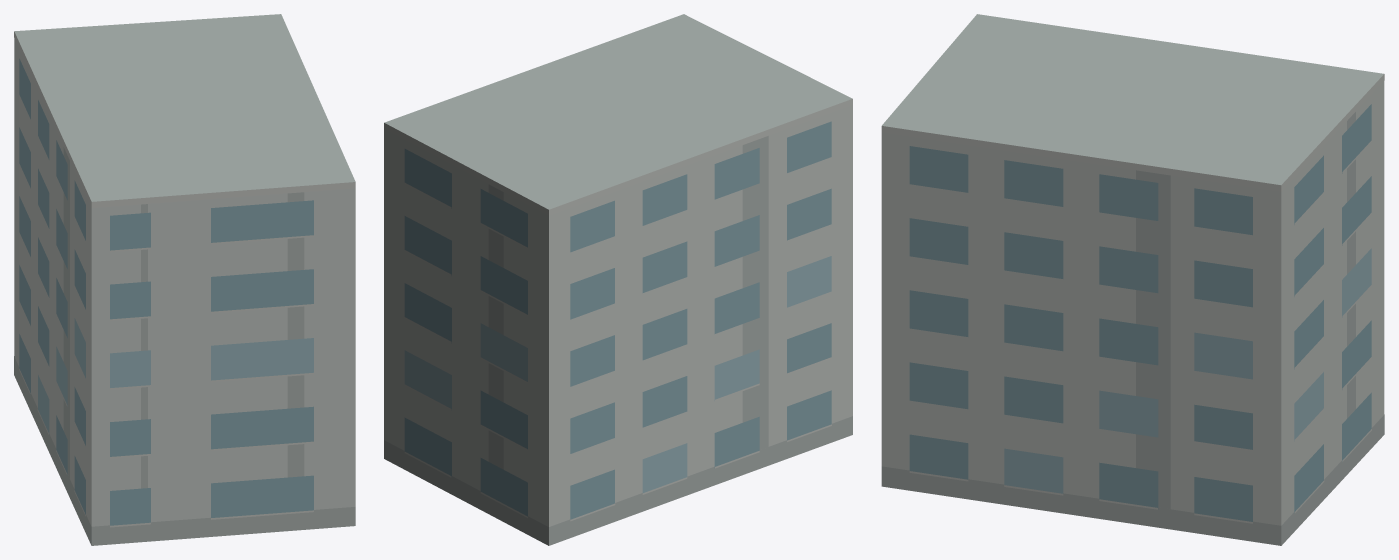
Rendered from survey-upis-32885795.glb.
3 renders of one model, left to right at view 1: azimuth 30°, elevation 25°; view 2: azimuth 150°, elevation 25°; view 3: azimuth 270°, elevation 25°, orthographic. The views are drawn at different scales.
Parts seen in each view (by area): view 1: survey-upis-32885795.tmp; view 2: survey-upis-32885795.tmp; view 3: survey-upis-32885795.tmp.
Part boxes in pixels (left/top/right/bottom): survey-upis-32885795.tmp: left=14, top=14, right=355, bottom=545; survey-upis-32885795.tmp: left=384, top=14, right=852, bottom=545; survey-upis-32885795.tmp: left=881, top=14, right=1384, bottom=545.
Size of the model in its own units: 13.35 by 13.1 by 16.56.
